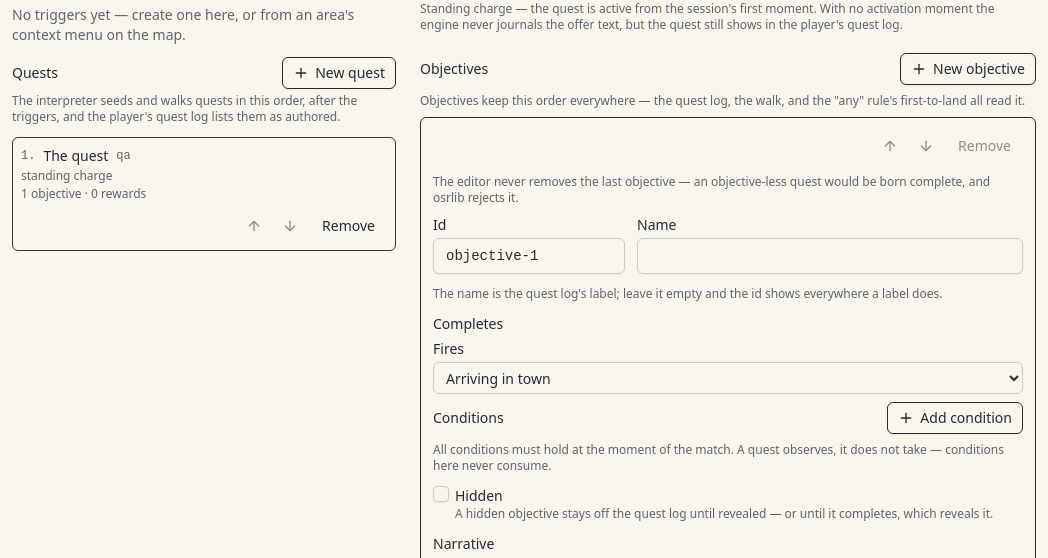
Test: the draft objective row refuses a quest-scoped duplicate id inline
Click the button "New objective" at (968, 69), box [900,53,1036,85]
(page scrolled)
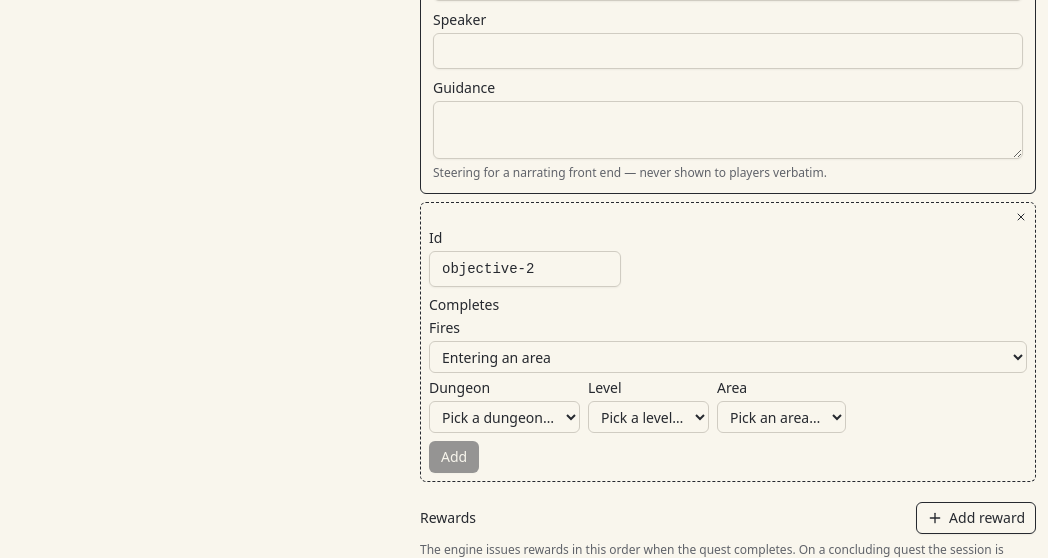
Now the field labelled "Id" holds "objective-2"
Replace the text in the field labelled "Id" with "objective-1" at (525, 269), box [429,251,621,287]
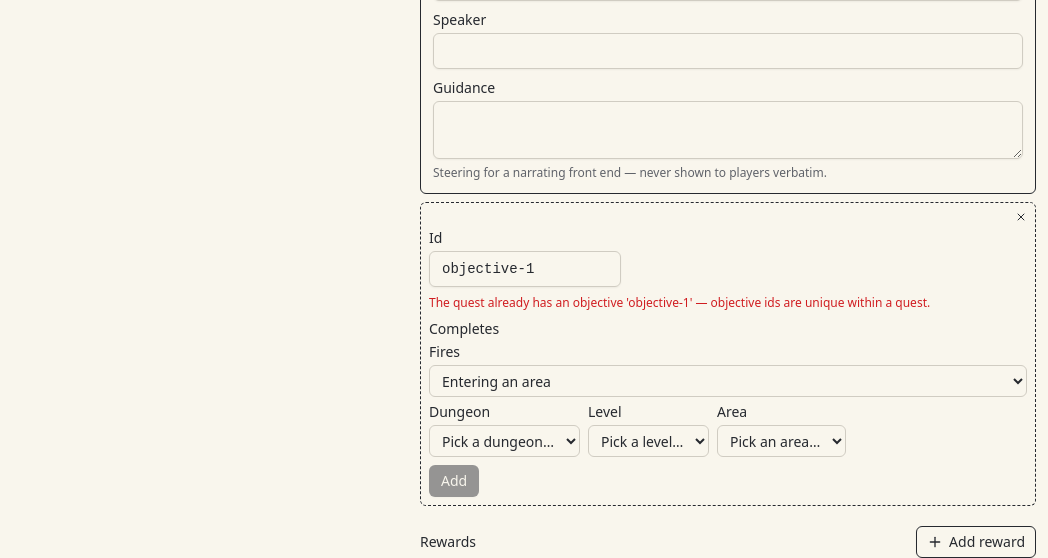
Now the button "Add" is disabled, box [429,465,479,497]
Now the text "already has an objective 'objective-1'" is shown, box [429,294,930,311]
